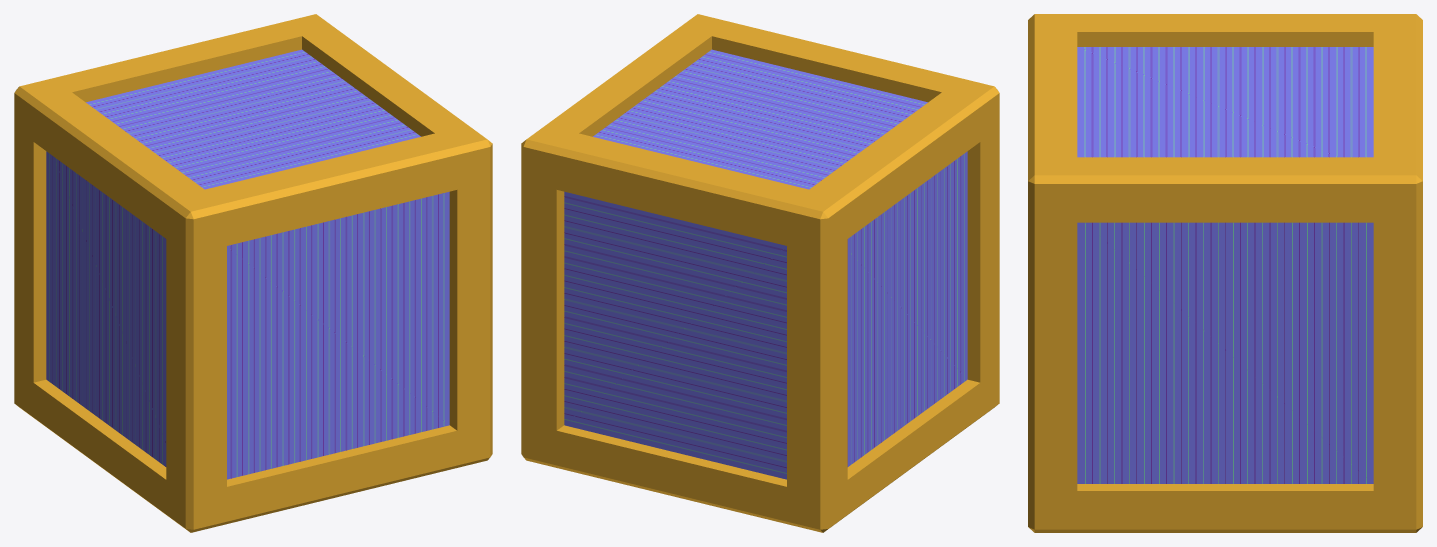
Rendered from WoodBlocks_Ye_00.FBX.
3 renders of one model, left to right at view 1: azimuth 30°, elevation 25°; view 2: azimuth 150°, elevation 25°; view 3: azimuth 270°, elevation 25°, orthographic. The views are drawn at different scales.
Visible parts, largest first — view 1: WoodBlocks_Ye_Rough_00, WoodBlocks_Ye_00; view 2: WoodBlocks_Ye_Rough_00, WoodBlocks_Ye_00; view 3: WoodBlocks_Ye_Rough_00, WoodBlocks_Ye_00.
Part boxes in pixels (x1,y1,x2,y2): WoodBlocks_Ye_Rough_00: [46, 49, 449, 479]; WoodBlocks_Ye_00: [14, 14, 492, 532]; WoodBlocks_Ye_Rough_00: [564, 49, 967, 479]; WoodBlocks_Ye_00: [521, 14, 999, 532]; WoodBlocks_Ye_Rough_00: [1077, 47, 1373, 483]; WoodBlocks_Ye_00: [1028, 14, 1422, 532].
Bounding box in the file's own units: 1.2 × 1.2 × 1.2.
